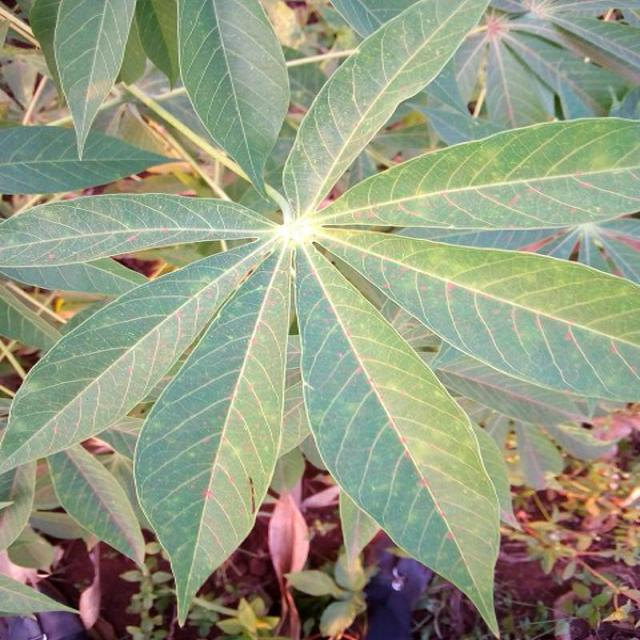cassava leaf: (2, 0, 640, 634), (294, 237, 506, 637), (133, 242, 293, 627)
